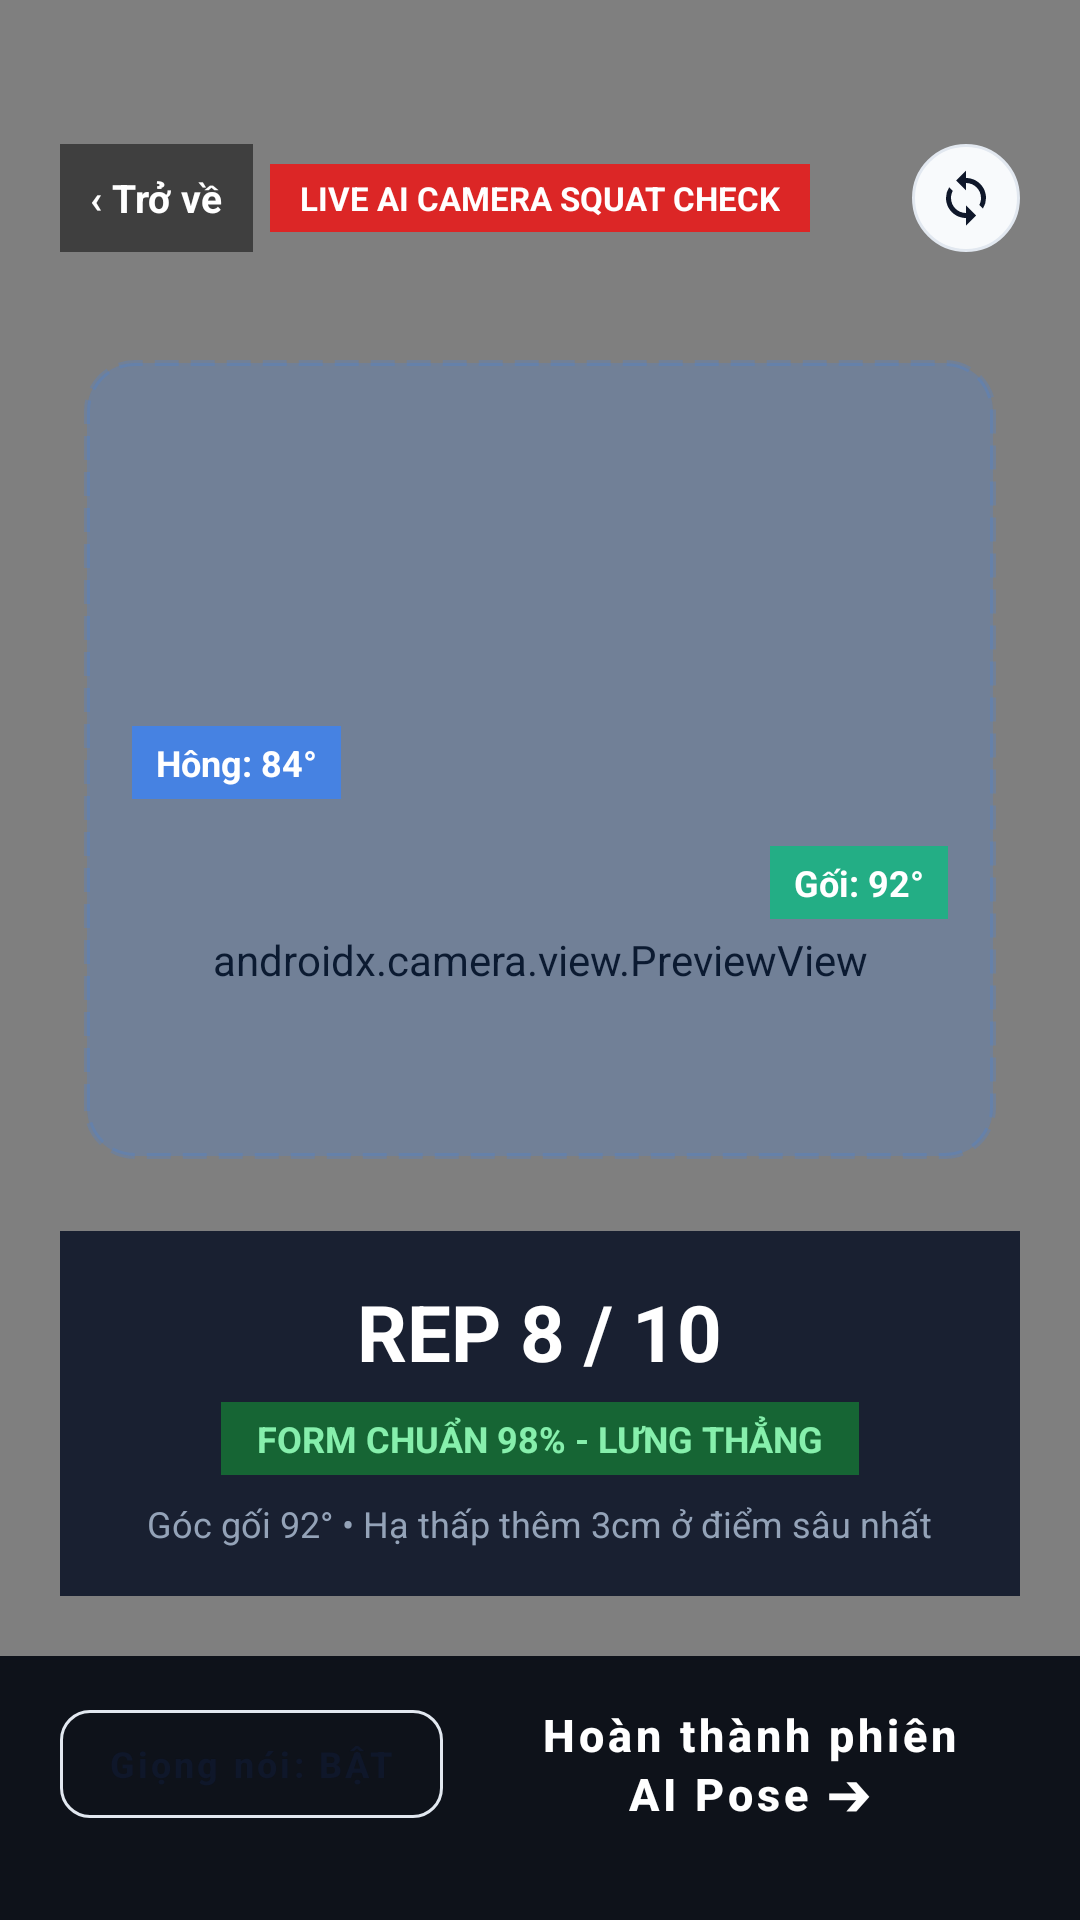

Named icons in this screenshot (1080px x 1920px) and their bounding boxes, (x1, y1, x2, y2):
Đổi camera: (912, 144, 1020, 252)
